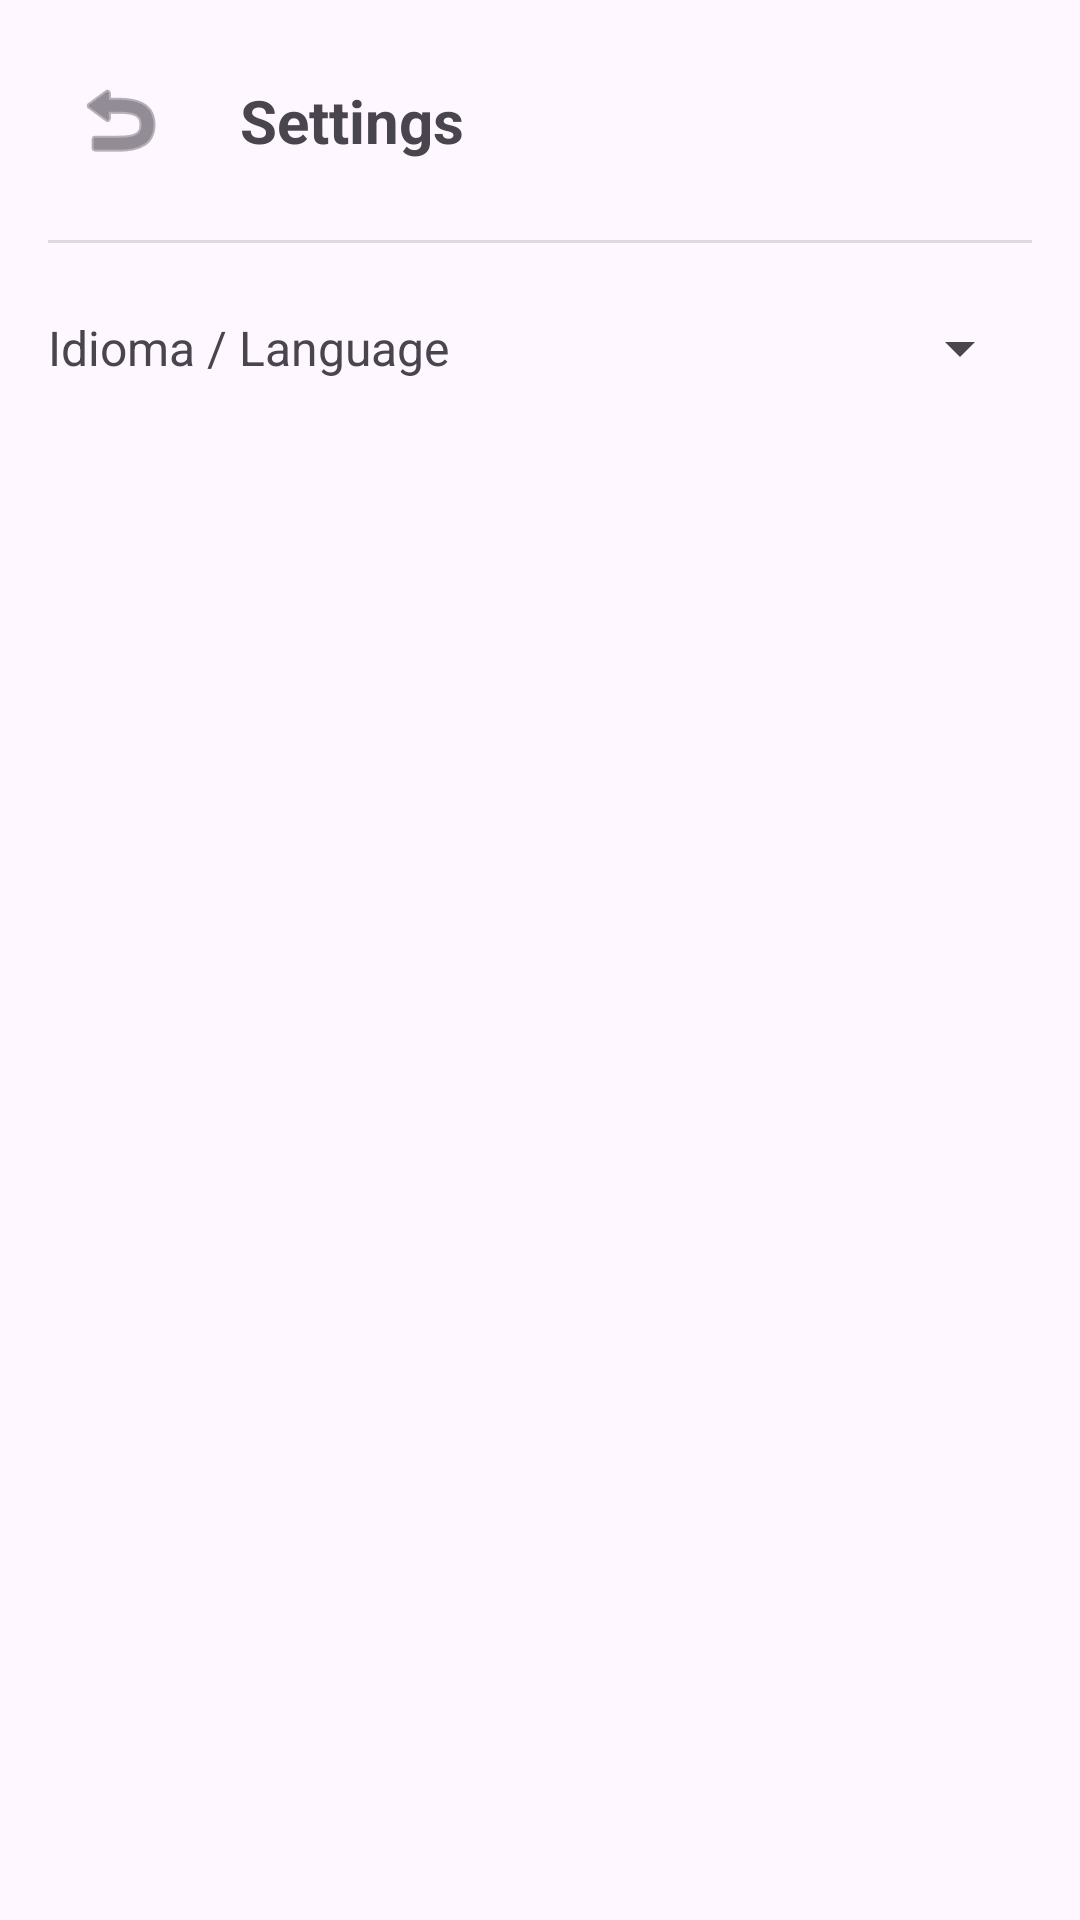

Icon click points for this 1080px x 1920px phone screenshot, format [x,y]:
Volver: [121,120]
